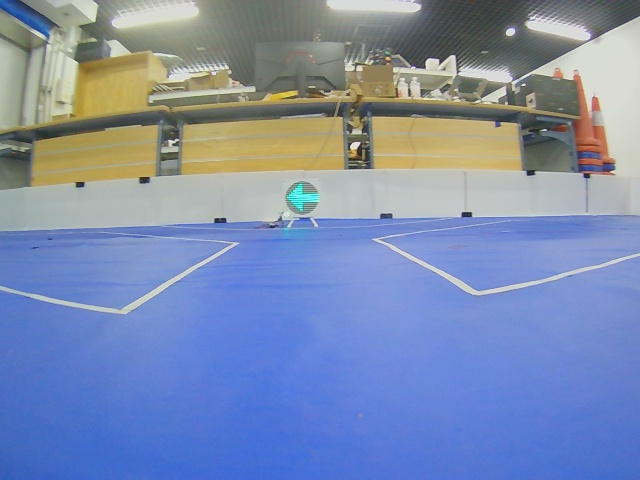left_green: (285, 181, 319, 215)
